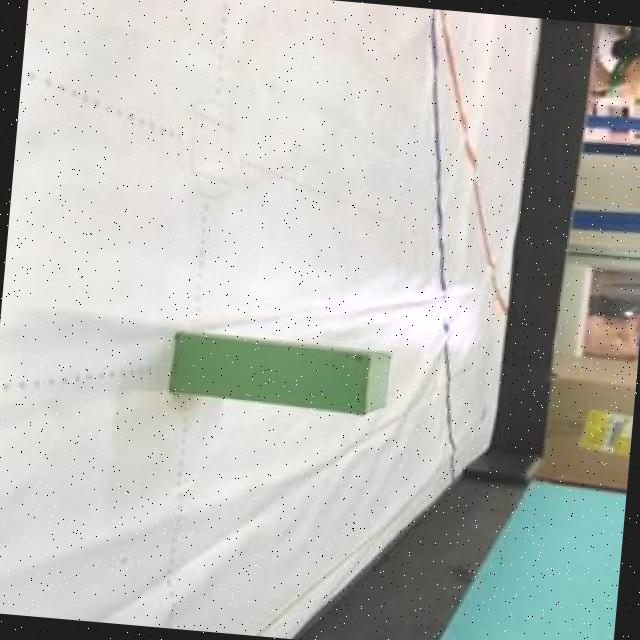greenbox: (162, 330, 396, 418)
